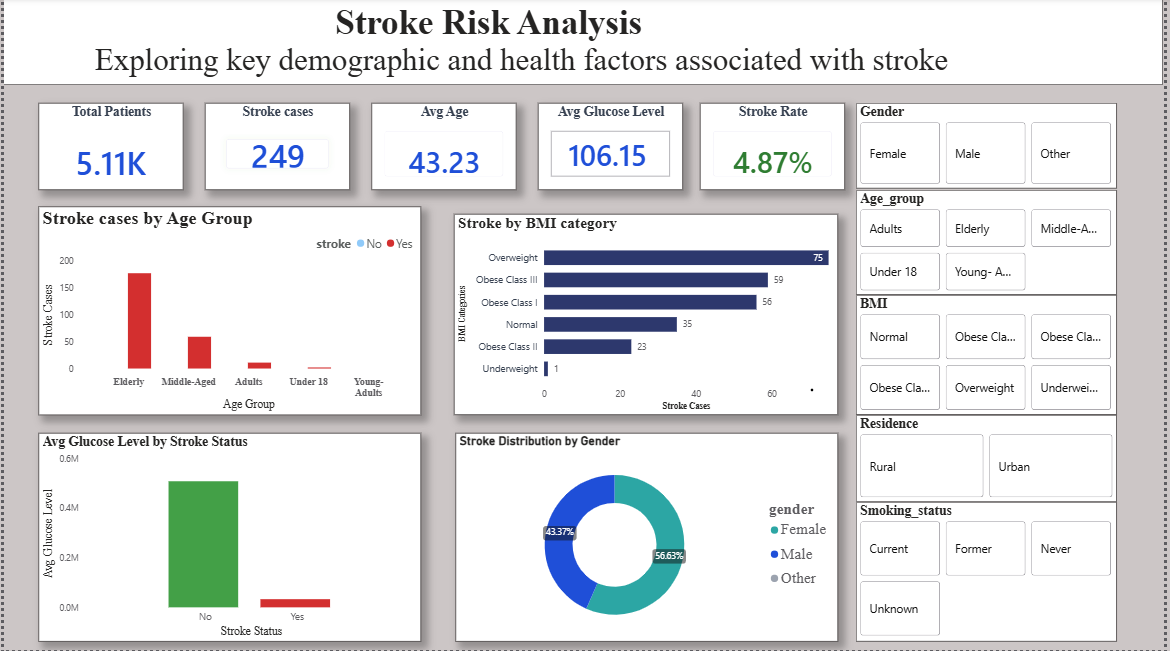

What the dashboard file says about the page in this screenshot:
{"tool":"powerbi","page":{"name":"Page 1","canvas":[1600,900],"ordinal":0},"visuals":[{"type":"cardVisual","title":"Total  Patients","fields":{"Data":["Count(health_stroke_powerbi.id)"]},"box":[48,144,200,120],"z":0},{"type":"textbox","box":[-8,0,1608,120],"z":1000},{"type":"cardVisual","title":"Stroke cases","fields":{"Data":["Sum(health_stroke_powerbi.stroke_num)"]},"box":[277.5,144,200,120],"z":2000},{"type":"cardVisual","title":"Avg Age","fields":{"Data":["Avg(health_stroke_powerbi.age_clean)"]},"box":[507,144,200,120],"z":3000},{"type":"cardVisual","title":"Avg Glucose Level","fields":{"Data":["Avg(health_stroke_powerbi.avg_glucose_clean)"]},"box":[736.5,144,200,120],"z":4000},{"type":"clusteredColumnChart","title":"Stroke cases by Age Group","fields":{"Y":["Sum(health_stroke_powerbi.stroke_num)"],"Category":["health_stroke_powerbi.age_group"],"Series":["health_stroke_powerbi.stroke"]},"box":[48,288,528,288],"z":5000},{"type":"clusteredBarChart","title":"Stroke by BMI category","fields":{"Y":["Sum(health_stroke_powerbi.stroke_num)"],"Category":["health_stroke_powerbi.bmi_clean"]},"box":[621.2,298.2,530.1,277.5],"z":6000},{"type":"donutChart","title":"Stroke Distribution by Gender","fields":{"Category":["health_stroke_powerbi.gender"],"Y":["Sum(health_stroke_powerbi.stroke_num)"]},"box":[624,600,528,288],"z":7000},{"type":"clusteredColumnChart","title":"Avg Glucose Level by Stroke Status","fields":{"Category":["health_stroke_powerbi.stroke"],"Y":["Sum(health_stroke_powerbi.avg_glucose_clean)"]},"box":[48,600,528,288],"z":8000},{"type":"advancedSlicerVisual","title":"Gender","fields":{"Values":["health_stroke_powerbi.gender"]},"box":[1176.1,144.9,360.3,118],"z":9000},{"type":"advancedSlicerVisual","title":"Age_group","fields":{"Values":["health_stroke_powerbi.age_group"]},"box":[1176.1,265,360.3,144.9],"z":10000},{"type":"advancedSlicerVisual","title":"BMI","fields":{"Values":["health_stroke_powerbi.bmi_clean"]},"box":[1176.1,410,360.3,165.6],"z":11000},{"type":"advancedSlicerVisual","title":"Residence","fields":{"Values":["health_stroke_powerbi.Residence_type"]},"box":[1176,576,360,120],"z":12000},{"type":"advancedSlicerVisual","title":"Smoking_status","fields":{"Values":["health_stroke_powerbi.smoking_status_clean"]},"box":[1176.1,695.7,360.3,192.6],"z":13000},{"type":"cardVisual","title":"Stroke Rate","fields":{"Data":["health_stroke_powerbi.Stroke Rate(%)"]},"box":[960,144,200,120],"z":14000}]}

Visuals, with their boxes in screenshot pixels (x1, y1, x2, y2), scaled from the page's 1600x900 canvas onto the 1170x651 screenshot:
"Total  Patients" cardVisual: pyautogui.locateOnScreen(35, 104, 181, 191)
textbox: pyautogui.locateOnScreen(0, 0, 1169, 87)
"Stroke cases" cardVisual: pyautogui.locateOnScreen(203, 104, 349, 191)
"Avg Age" cardVisual: pyautogui.locateOnScreen(371, 104, 517, 191)
"Avg Glucose Level" cardVisual: pyautogui.locateOnScreen(539, 104, 685, 191)
"Stroke cases by Age Group" clusteredColumnChart: pyautogui.locateOnScreen(35, 208, 421, 417)
"Stroke by BMI category" clusteredBarChart: pyautogui.locateOnScreen(454, 216, 842, 416)
"Stroke Distribution by Gender" donutChart: pyautogui.locateOnScreen(456, 434, 842, 642)
"Avg Glucose Level by Stroke Status" clusteredColumnChart: pyautogui.locateOnScreen(35, 434, 421, 642)
"Gender" advancedSlicerVisual: pyautogui.locateOnScreen(860, 105, 1123, 190)
"Age_group" advancedSlicerVisual: pyautogui.locateOnScreen(860, 192, 1123, 296)
"BMI" advancedSlicerVisual: pyautogui.locateOnScreen(860, 297, 1123, 416)
"Residence" advancedSlicerVisual: pyautogui.locateOnScreen(860, 417, 1123, 503)
"Smoking_status" advancedSlicerVisual: pyautogui.locateOnScreen(860, 503, 1123, 643)
"Stroke Rate" cardVisual: pyautogui.locateOnScreen(702, 104, 848, 191)
